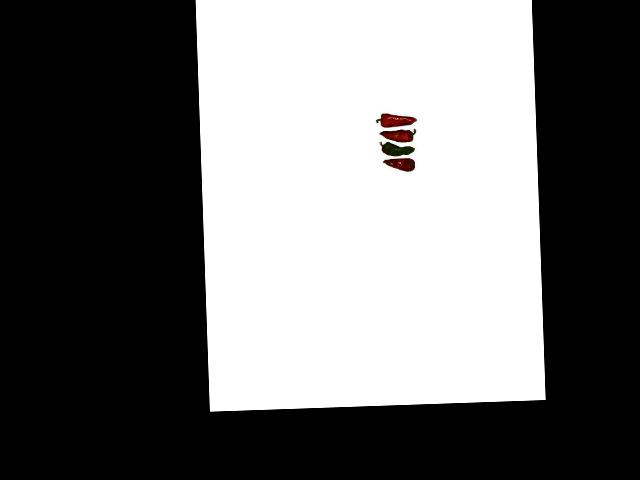bell_pepper: (380, 156, 416, 176)
